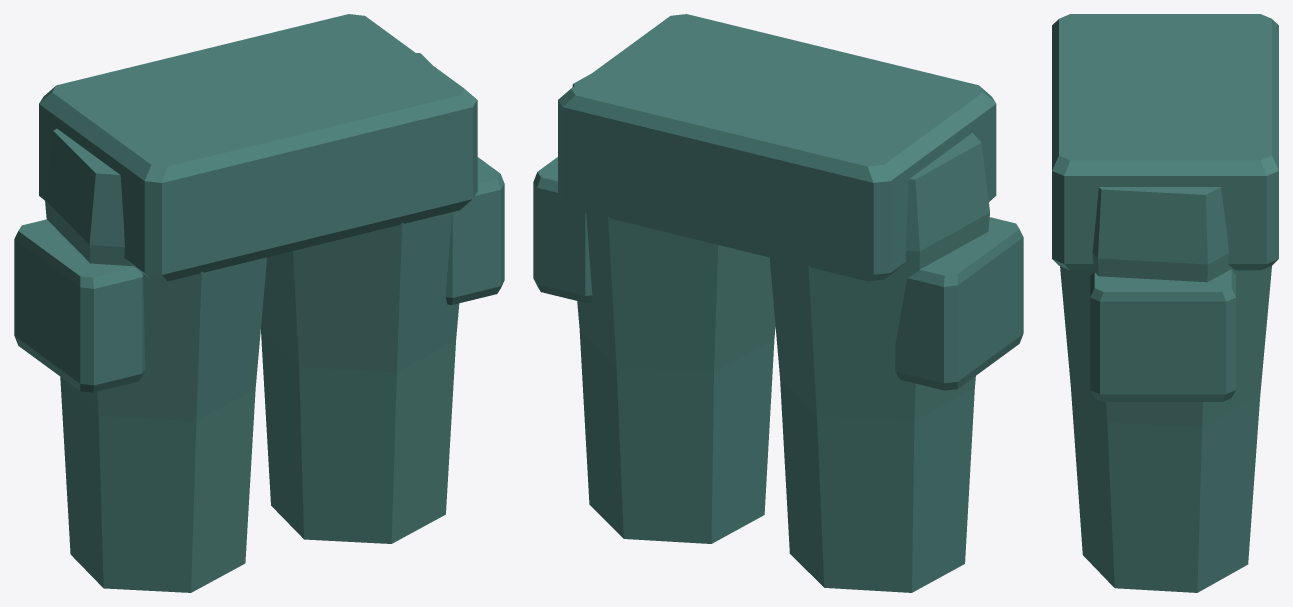
The model's file is SM_NPC_BOTTOM_001_CargoPants.glb.
The picture shows the model from 3 angles, left to right: view 1: azimuth 30°, elevation 25°; view 2: azimuth 150°, elevation 25°; view 3: azimuth 270°, elevation 25°; orthographic projection. The views are drawn at different scales.
Parts seen in each view (by area): view 1: SM_NPC_BOTTOM_001_CargoPants; view 2: SM_NPC_BOTTOM_001_CargoPants; view 3: SM_NPC_BOTTOM_001_CargoPants.
Part boxes in pixels (x1=…): SM_NPC_BOTTOM_001_CargoPants: x1=14, y1=14, x2=504, y2=592; SM_NPC_BOTTOM_001_CargoPants: x1=533, y1=14, x2=1023, y2=592; SM_NPC_BOTTOM_001_CargoPants: x1=1052, y1=14, x2=1278, y2=592.
Size of the model in its own units: 0.58 by 0.58 by 0.28.
